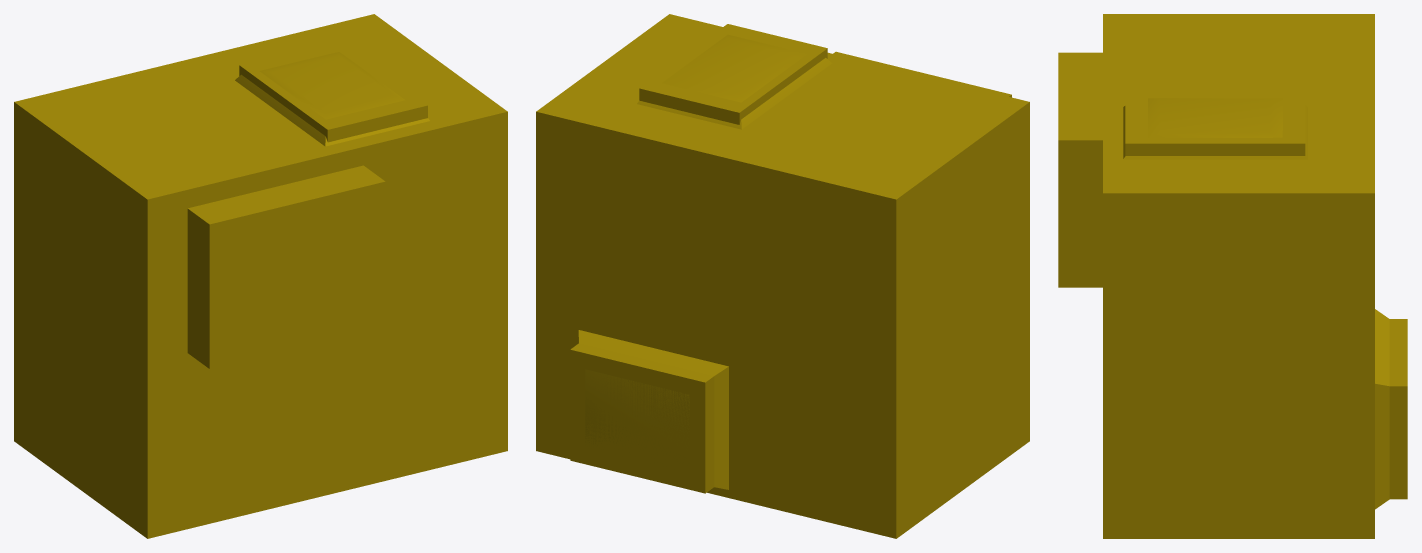
File: hedge02.fbx
3 views of the same model, side by side, from view 1: azimuth 30°, elevation 25°; view 2: azimuth 150°, elevation 25°; view 3: azimuth 270°, elevation 25° (orthographic).
Parts seen in each view (by area): view 1: lp_hedge02, hp_hedge02; view 2: lp_hedge02, hp_hedge02; view 3: lp_hedge02, hp_hedge02.
Boxes of the visible parts, x1,y1,x2,y2 form: lp_hedge02: [14, 14, 507, 538]; hp_hedge02: [235, 52, 429, 146]; lp_hedge02: [536, 14, 1029, 538]; hp_hedge02: [578, 34, 832, 489]; lp_hedge02: [1058, 14, 1407, 538]; hp_hedge02: [1123, 98, 1389, 509].
Bounding box in the file's own units: 100 × 94.42 × 82.42.
